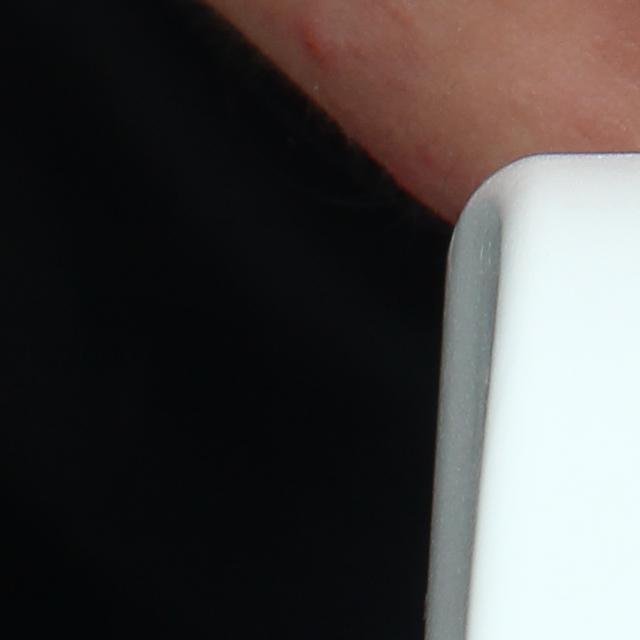papule: (294, 14, 346, 80)
